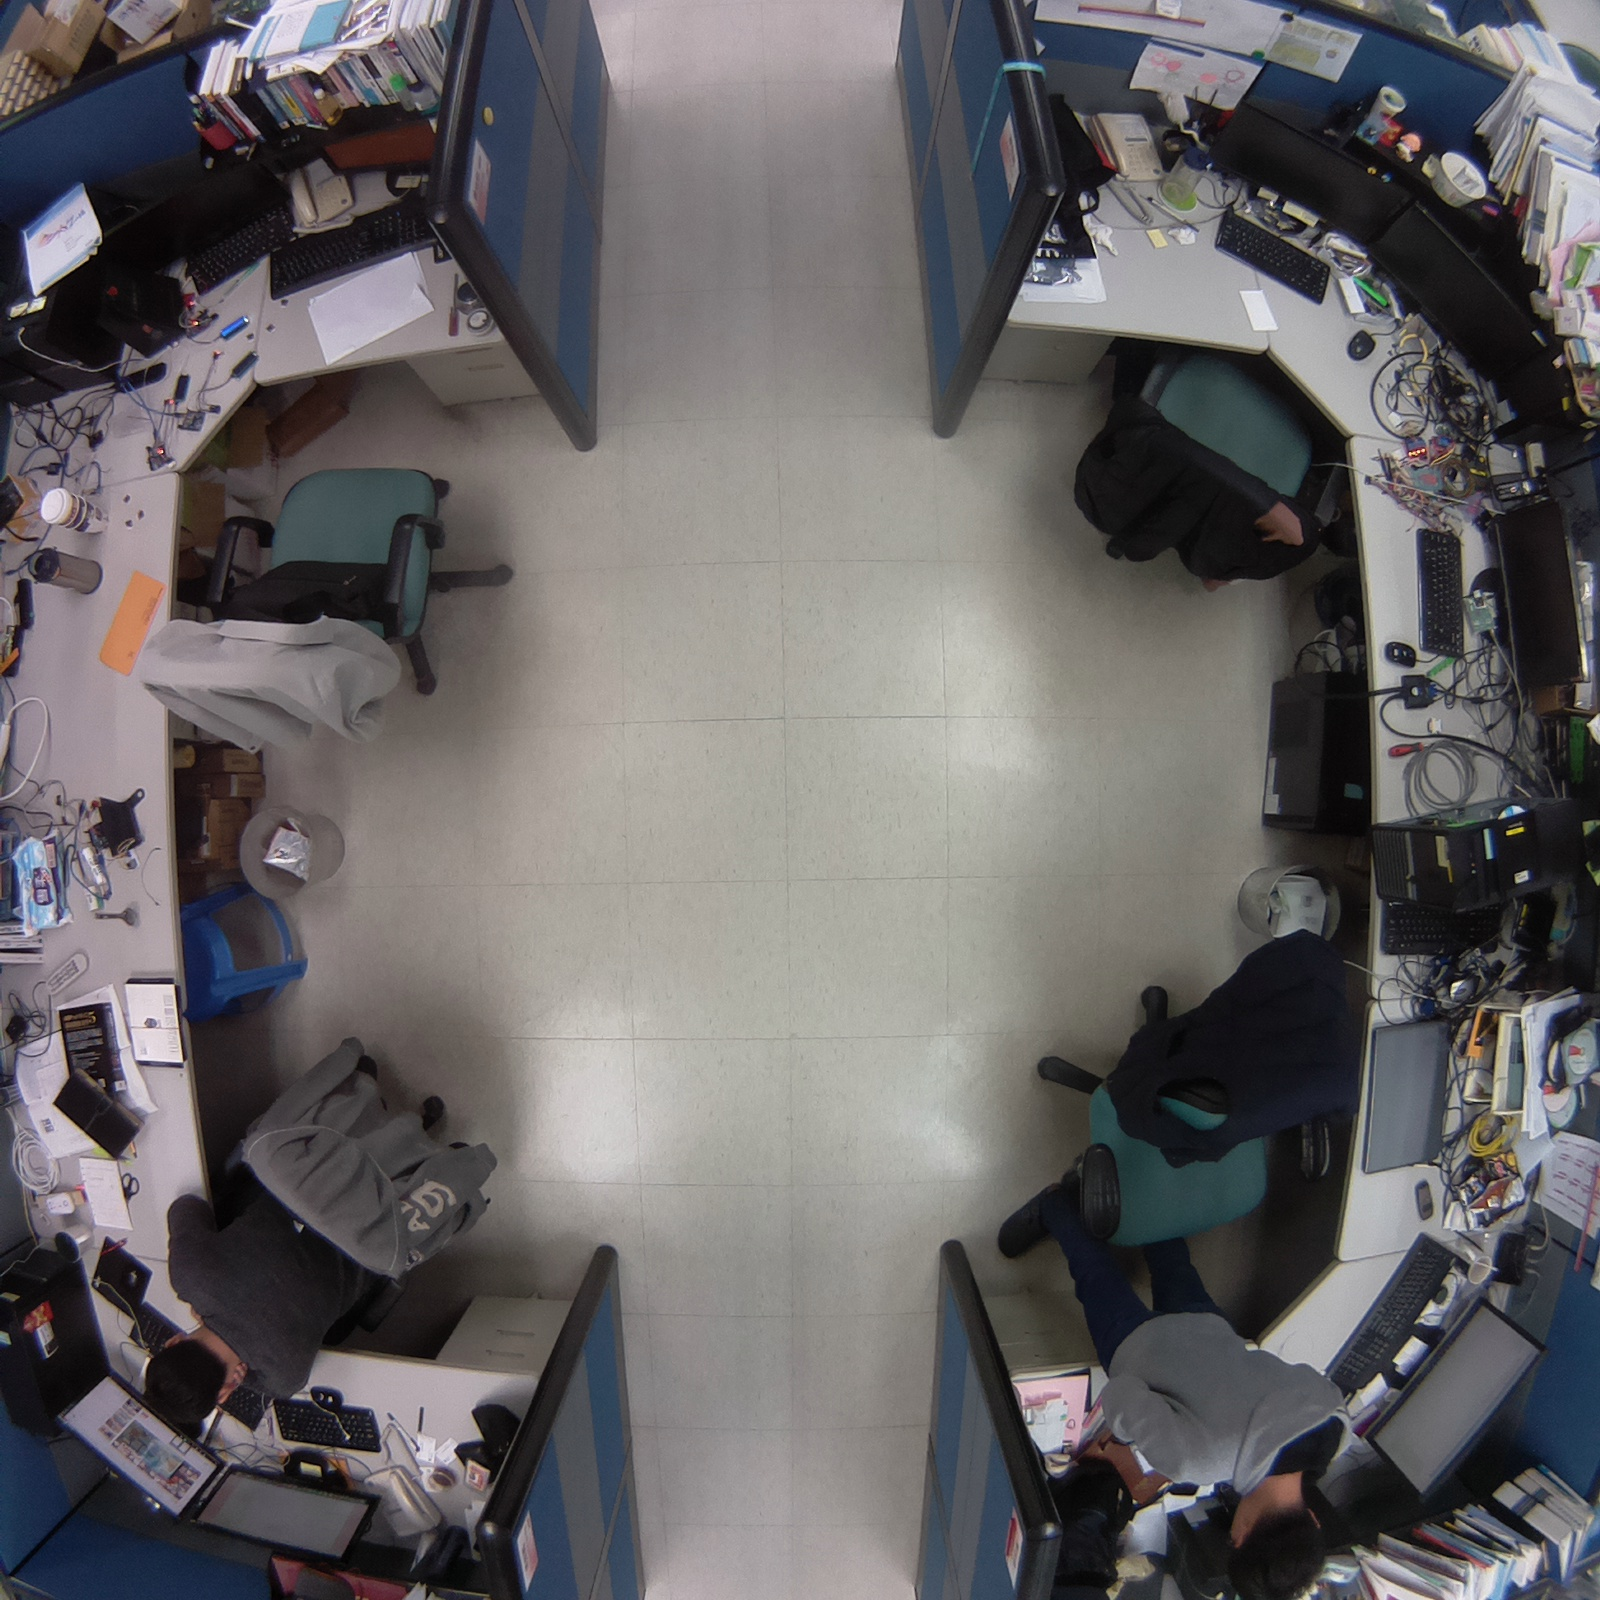chair: (114, 427, 542, 778), (1004, 901, 1388, 1260), (1065, 319, 1337, 601)
head: (1219, 1489, 1333, 1600), (136, 1329, 234, 1436)
sitting: (122, 1011, 512, 1443)
standing: (984, 1172, 1354, 1600)
